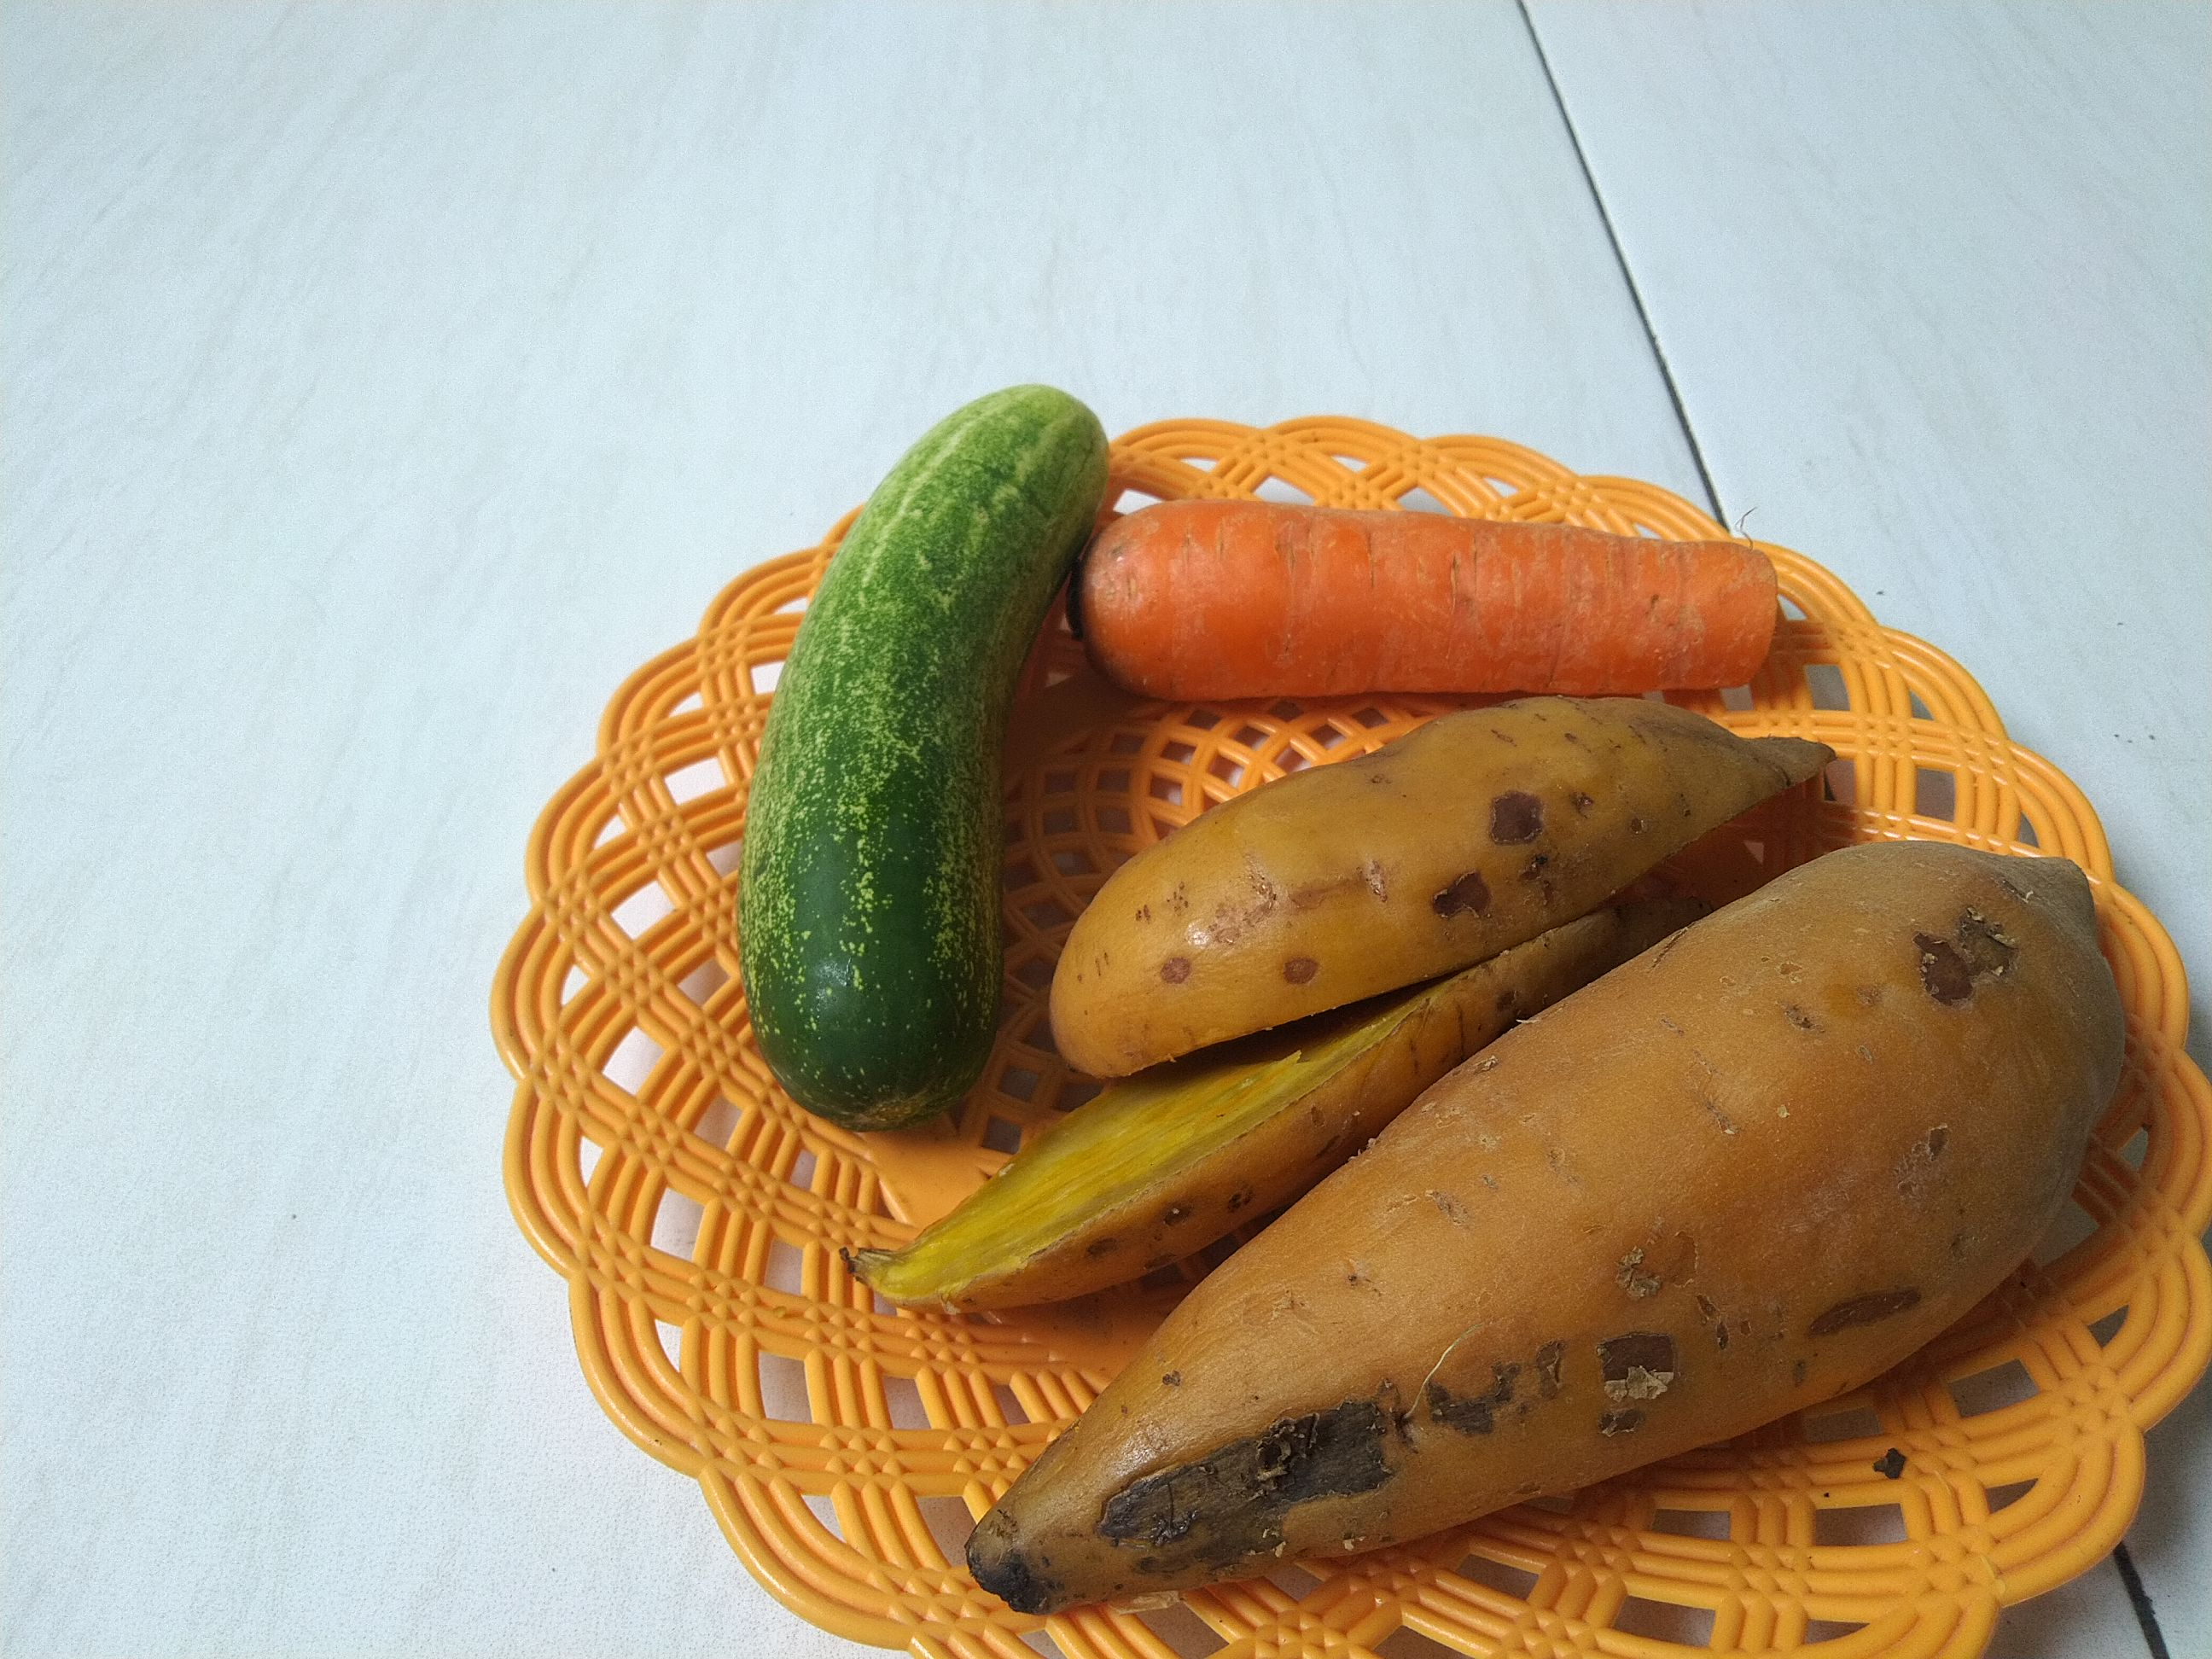ubi cilembu: (958, 842, 2123, 1614), (859, 708, 1876, 1303), (1050, 706, 1843, 1080)
